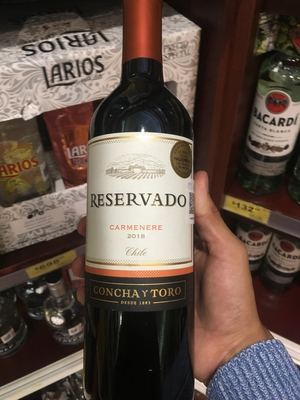reservado carmenere: (75, 11, 217, 400)
